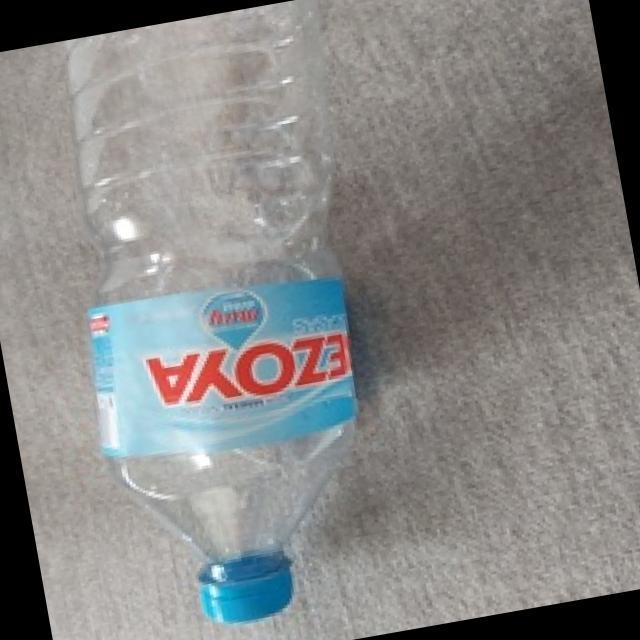good: (23, 0, 434, 640)
